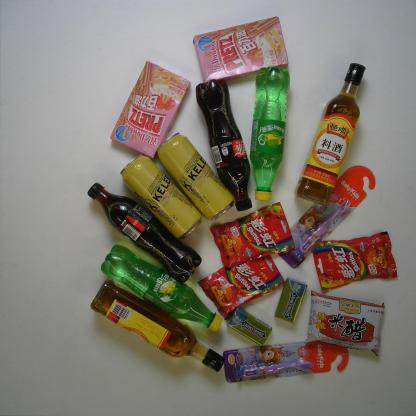Alcohol: (120, 154, 203, 239), (157, 132, 234, 220)
Candy: (198, 246, 284, 317), (209, 201, 296, 269), (307, 232, 397, 291)
Dessert: (110, 61, 191, 158), (193, 16, 289, 83)
Drink: (87, 182, 202, 284), (100, 244, 223, 332), (196, 78, 252, 211), (248, 67, 290, 203)
Gum: (226, 307, 272, 347), (275, 278, 308, 324)
Personal Hygiene: (270, 166, 376, 269), (222, 338, 349, 382)
Seasoner: (91, 279, 225, 372), (294, 63, 366, 207), (304, 290, 385, 356)
